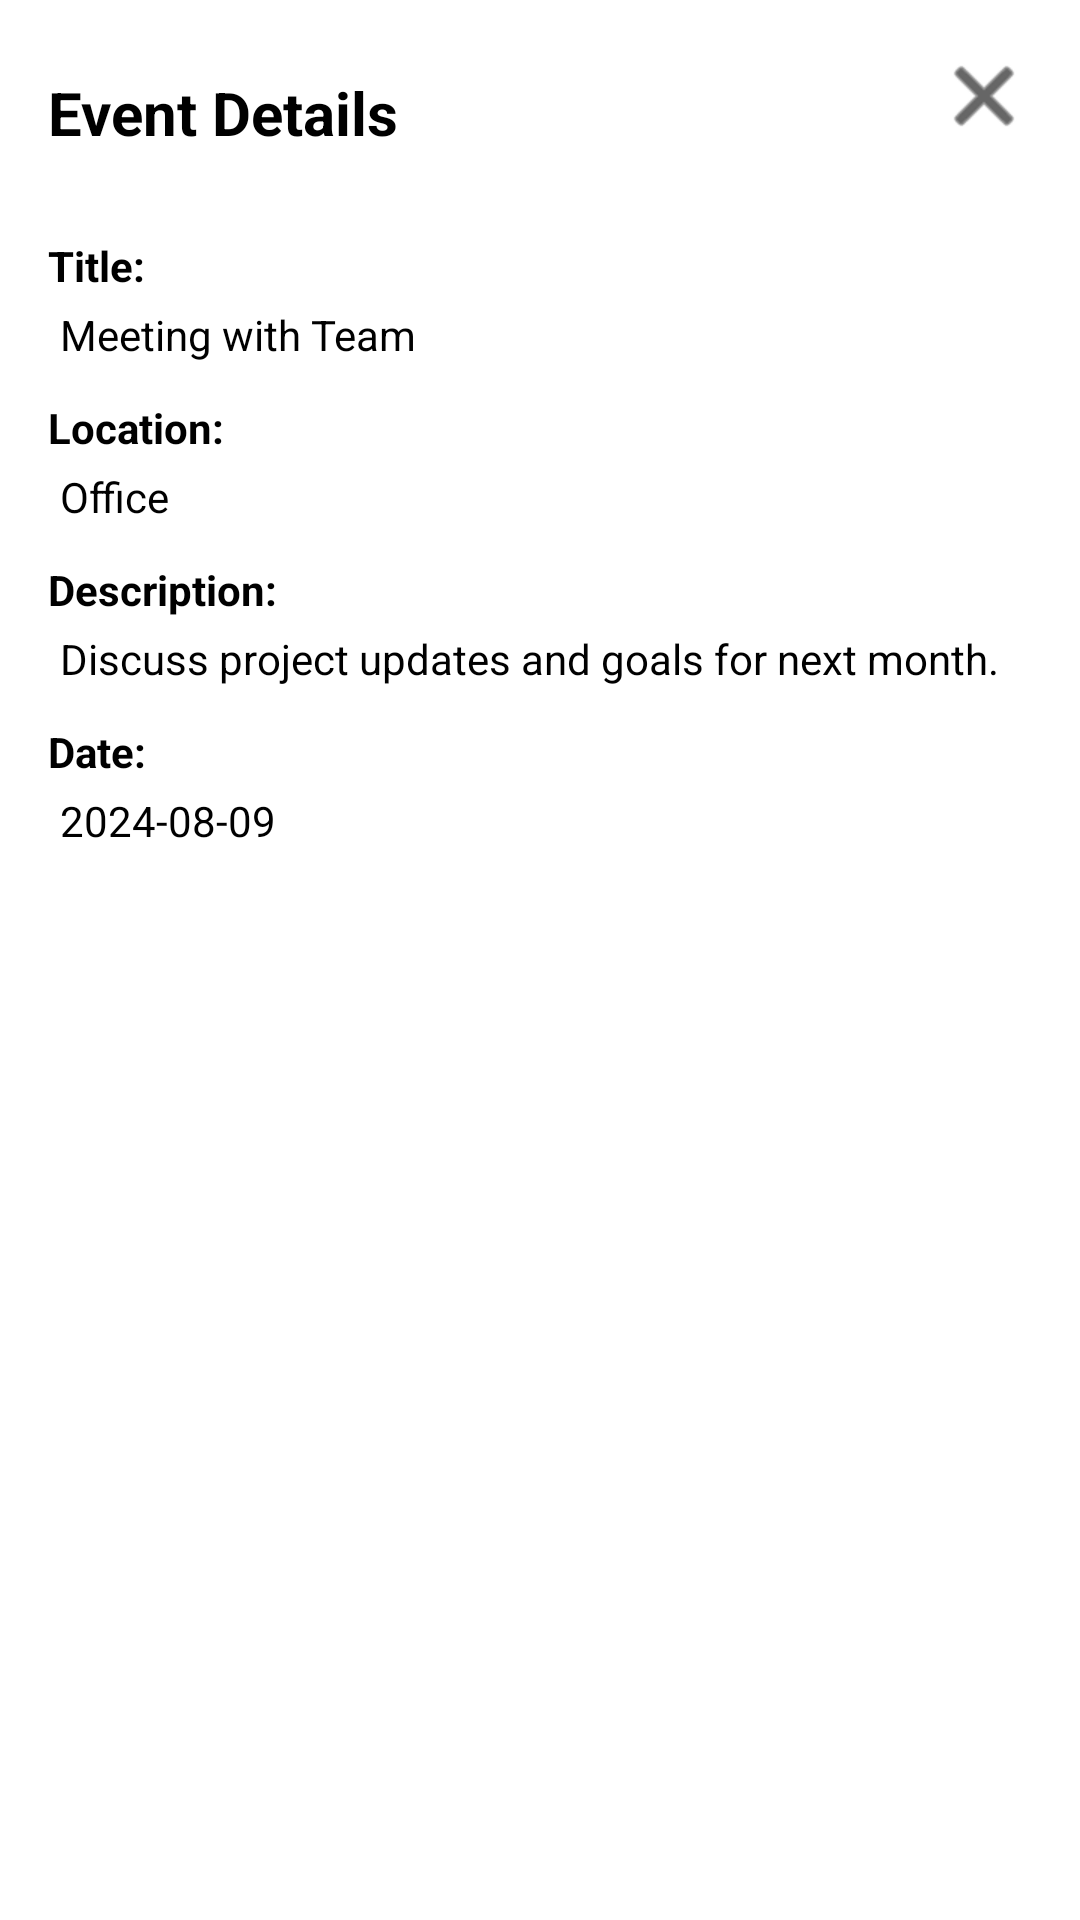

Icons on this 1080 × 1920 Android screen, each with its box as (x1, y1, x2, y2):
close clear cancel: (954, 66, 1014, 126)
